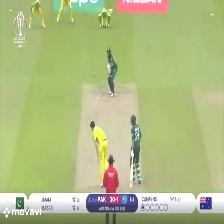ball: (95, 95, 100, 101)
batsman: (101, 44, 120, 98)
